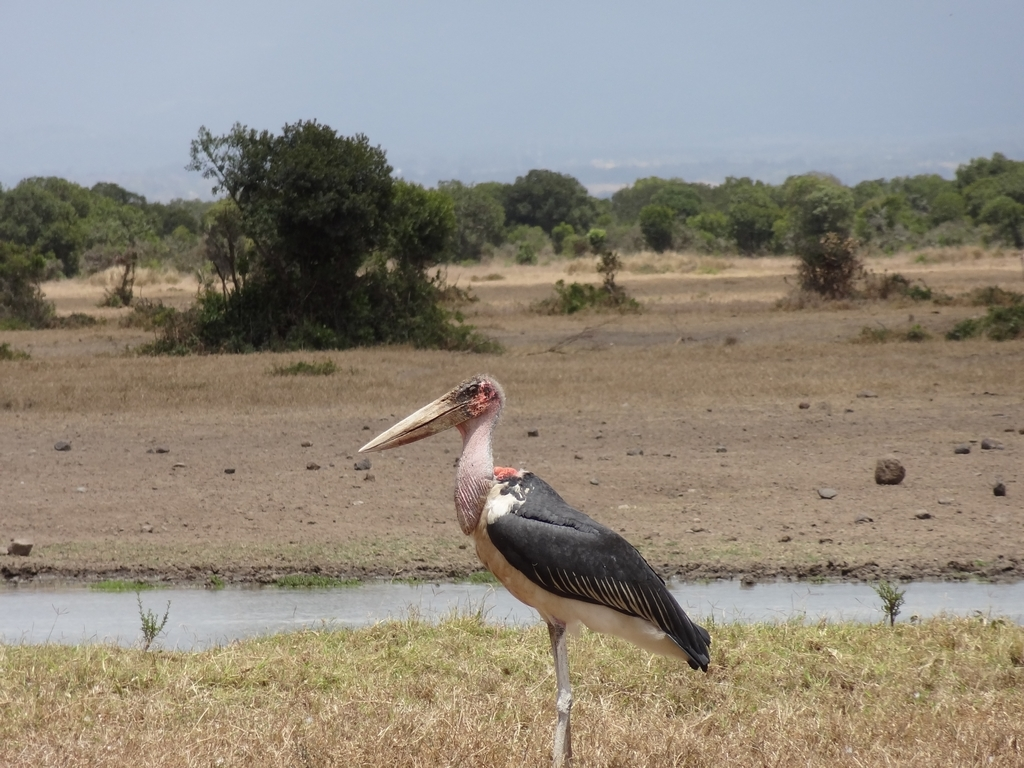Bird: (358, 373, 710, 768)
